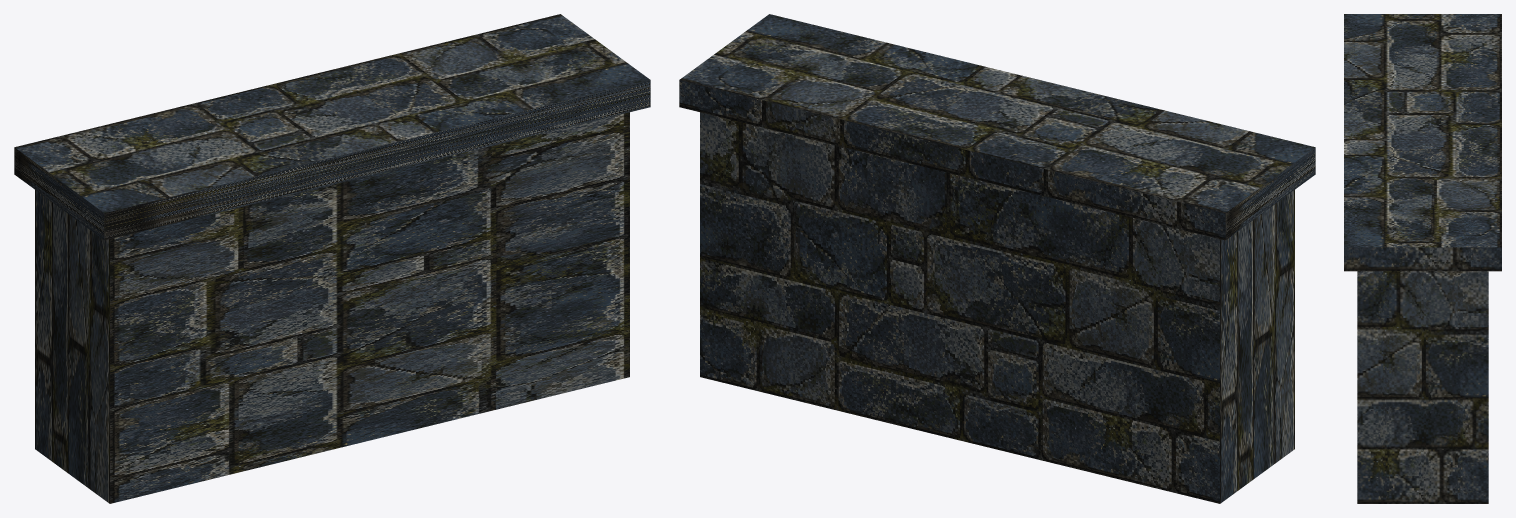
File: M_Mureta.obj
3 views of the same model, side by side, from view 1: azimuth 30°, elevation 25°; view 2: azimuth 150°, elevation 25°; view 3: azimuth 270°, elevation 25° (orthographic). The views are drawn at different scales.
Parts seen in each view (by area): view 1: M_Mureta; view 2: M_Mureta; view 3: M_Mureta.
Boxes of the visible parts, x1,y1,x2,y2 form: M_Mureta: (14, 14, 650, 503); M_Mureta: (679, 14, 1315, 503); M_Mureta: (1344, 14, 1501, 503).
Bounding box in the file's own units: 2.1 × 1.1 × 0.6.
1 material, 1 textured.
